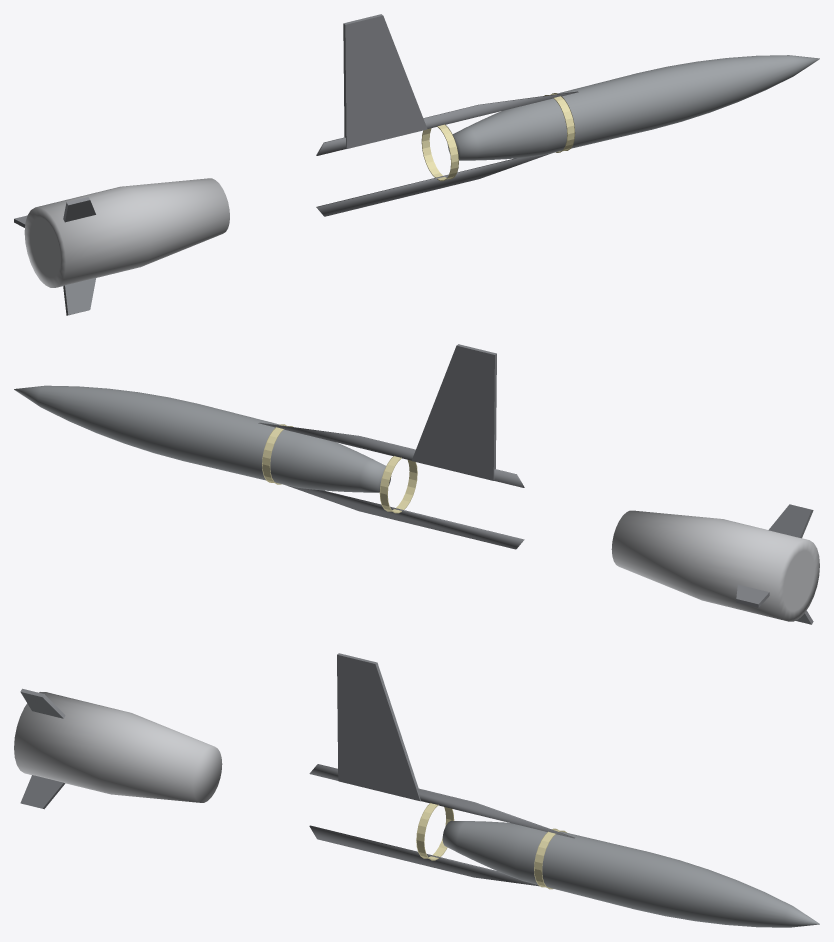
File: RU_LAM_Granat_LOD1.fbx
3 renders of one model, top to bottom at view 1: azimuth 30°, elevation 25°; view 2: azimuth 150°, elevation 25°; view 3: azimuth 330°, elevation 25°, orthographic.
Parts seen in each view (by area): view 1: WPN_RU_LAM_Granat_LOD1_Body, WPN_RU_LAM_Granat_LOD1_Tail, WPN_RU_LAM_Granat_LOD1_Wings, WPN_RU_LAM_Granat_LOD1_Detail, WPN_RU_LAM_Granat_LOD1_Fins, WPN_RU_LAM_Granat_LOD1_Marking; view 2: WPN_RU_LAM_Granat_LOD1_Body, WPN_RU_LAM_Granat_LOD1_Tail, WPN_RU_LAM_Granat_LOD1_Wings, WPN_RU_LAM_Granat_LOD1_Detail, WPN_RU_LAM_Granat_LOD1_Fins, WPN_RU_LAM_Granat_LOD1_Marking; view 3: WPN_RU_LAM_Granat_LOD1_Body, WPN_RU_LAM_Granat_LOD1_Tail, WPN_RU_LAM_Granat_LOD1_Wings, WPN_RU_LAM_Granat_LOD1_Detail, WPN_RU_LAM_Granat_LOD1_Fins, WPN_RU_LAM_Granat_LOD1_Marking.
Boxes of the visible parts, box(x1,y1,x2,y2) form: WPN_RU_LAM_Granat_LOD1_Body: box(447, 55, 819, 160); WPN_RU_LAM_Granat_LOD1_Tail: box(24, 178, 229, 287); WPN_RU_LAM_Granat_LOD1_Wings: box(343, 14, 427, 148); WPN_RU_LAM_Granat_LOD1_Detail: box(316, 91, 578, 216); WPN_RU_LAM_Granat_LOD1_Fins: box(14, 197, 95, 315); WPN_RU_LAM_Granat_LOD1_Marking: box(421, 93, 575, 181); WPN_RU_LAM_Granat_LOD1_Body: box(14, 385, 391, 492); WPN_RU_LAM_Granat_LOD1_Tail: box(611, 510, 819, 621); WPN_RU_LAM_Granat_LOD1_Wings: box(411, 344, 496, 480); WPN_RU_LAM_Granat_LOD1_Detail: box(258, 422, 524, 549); WPN_RU_LAM_Granat_LOD1_Fins: box(736, 504, 813, 624); WPN_RU_LAM_Granat_LOD1_Marking: box(262, 424, 417, 513); WPN_RU_LAM_Granat_LOD1_Body: box(442, 820, 819, 927); WPN_RU_LAM_Granat_LOD1_Tail: box(14, 692, 222, 802); WPN_RU_LAM_Granat_LOD1_Wings: box(337, 653, 420, 801); WPN_RU_LAM_Granat_LOD1_Detail: box(309, 764, 574, 886); WPN_RU_LAM_Granat_LOD1_Fins: box(20, 688, 65, 809); WPN_RU_LAM_Granat_LOD1_Marking: box(416, 803, 567, 889).
Size of the model in its own units: 8.1 by 1.02 by 2.07.
